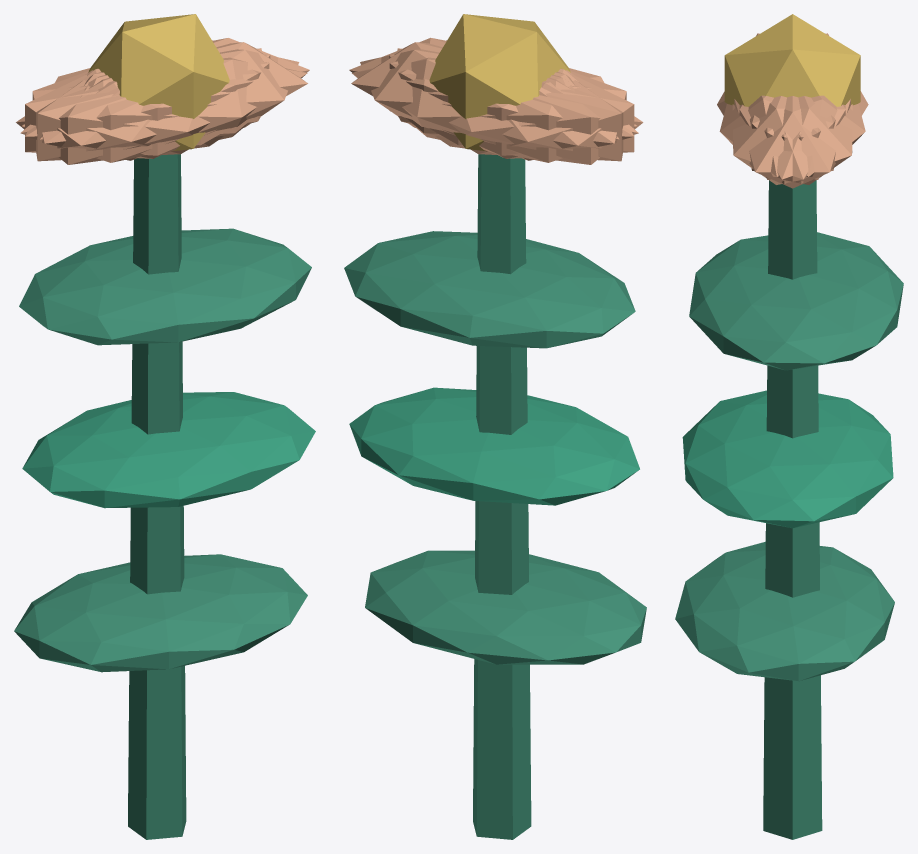
File: cardamine-hirsuta.glb
3 views of the same model, side by side, from view 1: azimuth 30°, elevation 25°; view 2: azimuth 150°, elevation 25°; view 3: azimuth 270°, elevation 25° (orthographic).
Visible parts, largest first — view 1: stem, leaf0, leaf1, leaf2, center, petal1, petal6, petal2, petal5, petal7, petal0, petal4 (+2 smaller); view 2: stem, leaf2, leaf1, leaf0, center, petal8, petal3, petal7, petal4, petal2, petal0, petal5 (+2 smaller); view 3: leaf2, stem, leaf1, leaf0, center, petal0, petal5, petal4, petal8, petal1.
Part boxes in pixels (left/top/right/bottom): stem: left=128, top=154, right=186, bottom=839; leaf0: left=14, top=554, right=307, bottom=672; leaf1: left=22, top=392, right=315, bottom=508; leaf2: left=19, top=228, right=311, bottom=345; center: left=88, top=14, right=229, bottom=151; petal1: left=20, top=57, right=307, bottom=162; petal6: left=16, top=70, right=223, bottom=164; petal2: left=36, top=48, right=261, bottom=161; petal5: left=40, top=49, right=299, bottom=155; petal7: left=25, top=54, right=270, bottom=158; petal0: left=88, top=42, right=307, bottom=145; petal4: left=22, top=38, right=309, bottom=136; stem: left=473, top=154, right=531, bottom=839; leaf2: left=344, top=231, right=635, bottom=348; leaf1: left=349, top=387, right=639, bottom=505; leaf0: left=365, top=550, right=646, bottom=664; center: left=429, top=14, right=570, bottom=151; petal8: left=352, top=57, right=638, bottom=162; petal3: left=435, top=70, right=643, bottom=164; petal7: left=397, top=48, right=623, bottom=161; petal4: left=360, top=49, right=619, bottom=155; petal2: left=389, top=54, right=634, bottom=158; petal0: left=351, top=42, right=570, bottom=145; petal5: left=349, top=37, right=637, bottom=136; leaf2: left=689, top=232, right=903, bottom=370; stem: left=763, top=180, right=822, bottom=839; leaf1: left=682, top=390, right=893, bottom=528; leaf0: left=675, top=541, right=894, bottom=681; center: left=724, top=14, right=860, bottom=106; petal0: left=734, top=96, right=850, bottom=188; petal5: left=732, top=96, right=845, bottom=184; petal4: left=739, top=96, right=852, bottom=184; petal8: left=750, top=95, right=865, bottom=176; petal1: left=719, top=95, right=835, bottom=176.
Size of the model in its own units: 0.1452 by 0.3954 by 0.1031.
